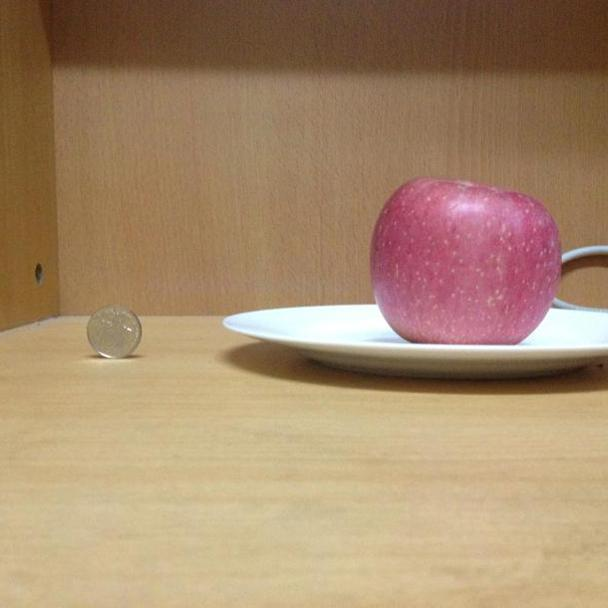apple: (369, 175, 561, 346)
